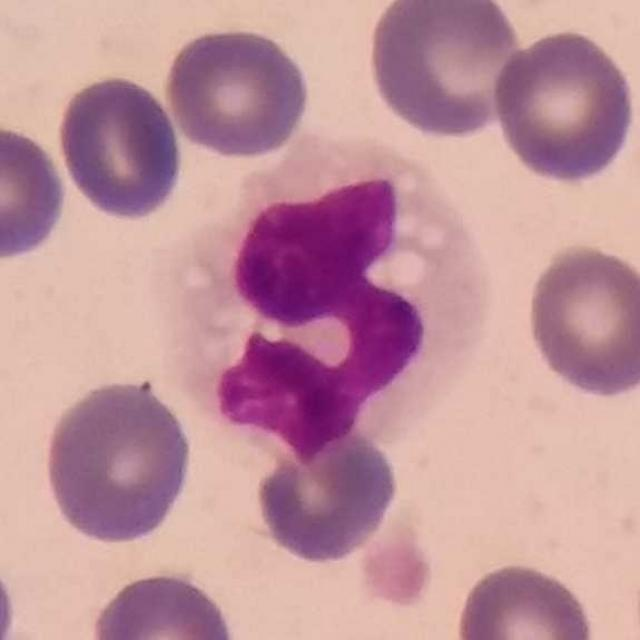Monocyte: (174, 135, 490, 454)
Platelets: (356, 526, 441, 612)
RBC: (39, 374, 197, 548), (487, 24, 639, 187), (362, 0, 527, 141), (249, 426, 402, 568), (161, 22, 314, 162), (52, 71, 187, 224), (521, 238, 640, 402), (452, 557, 599, 640), (86, 566, 241, 640), (0, 118, 71, 266)
